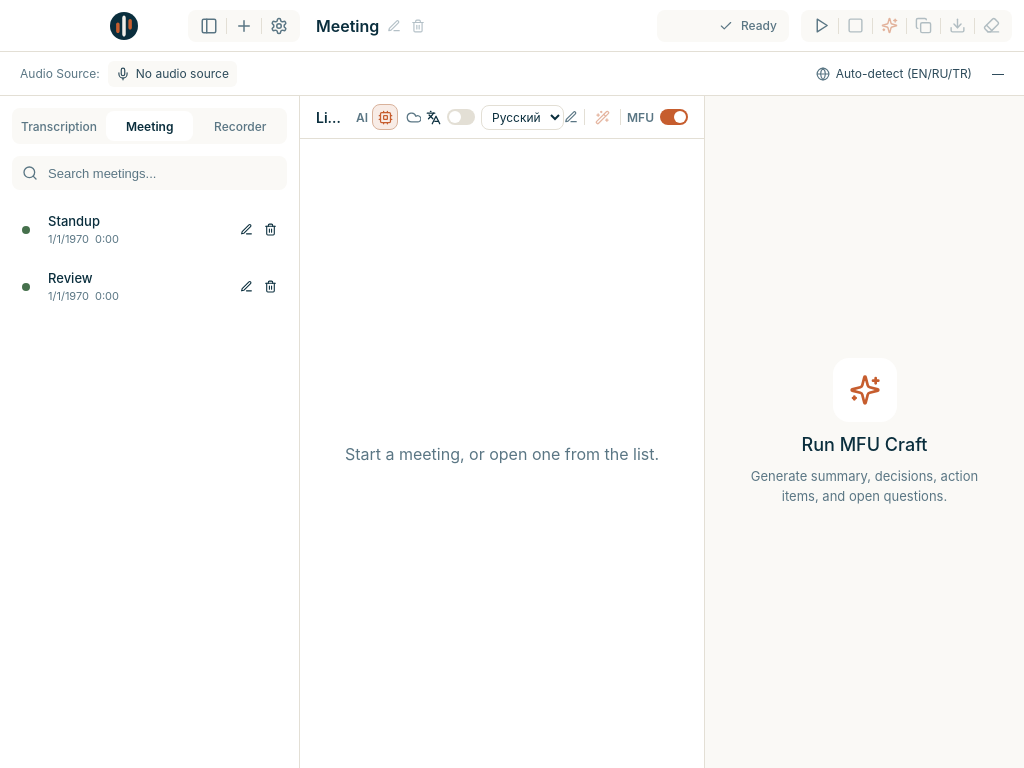
StreamingView › keeps a manual selection when the automatic first open resolves late
Click the button with aria-label "Open Review" at [132, 286], box [42,269,223,304]
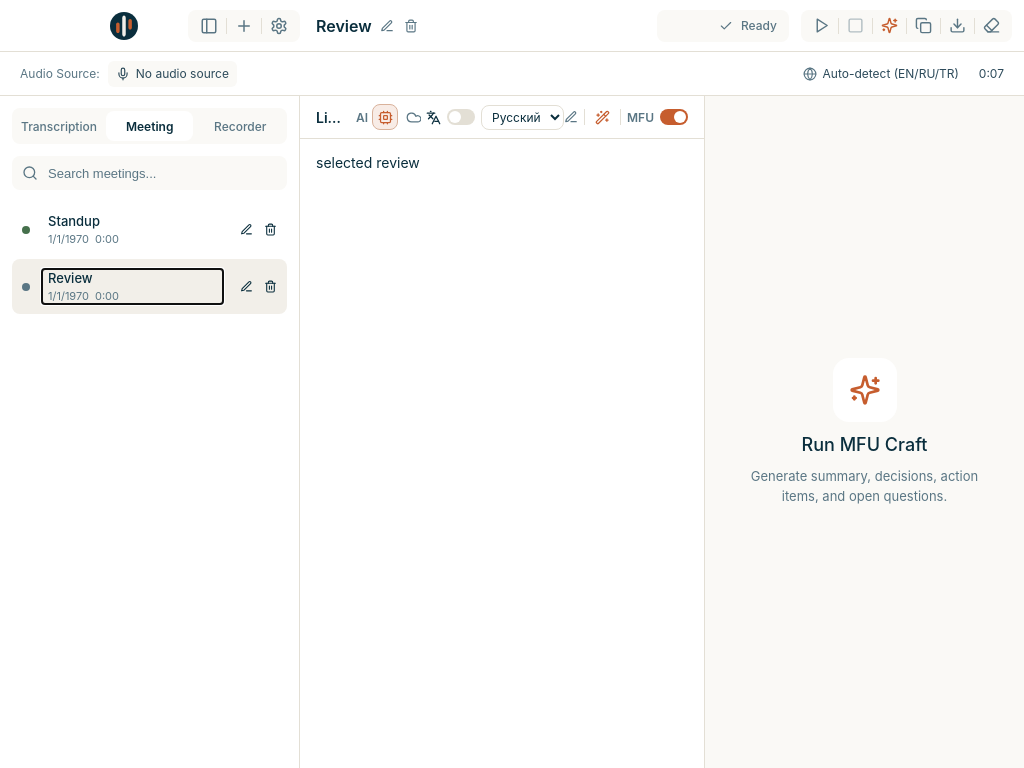
expect the text "selected review" is shown: met, box [316,154,420,171]
